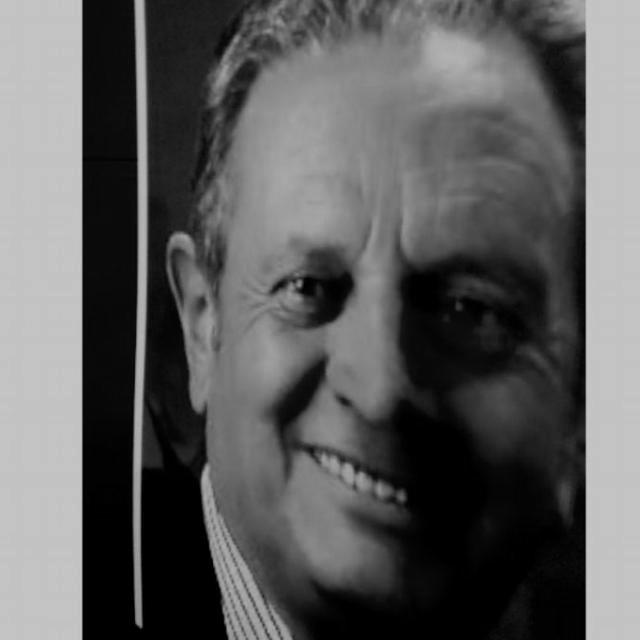fake: (128, 0, 584, 640)
